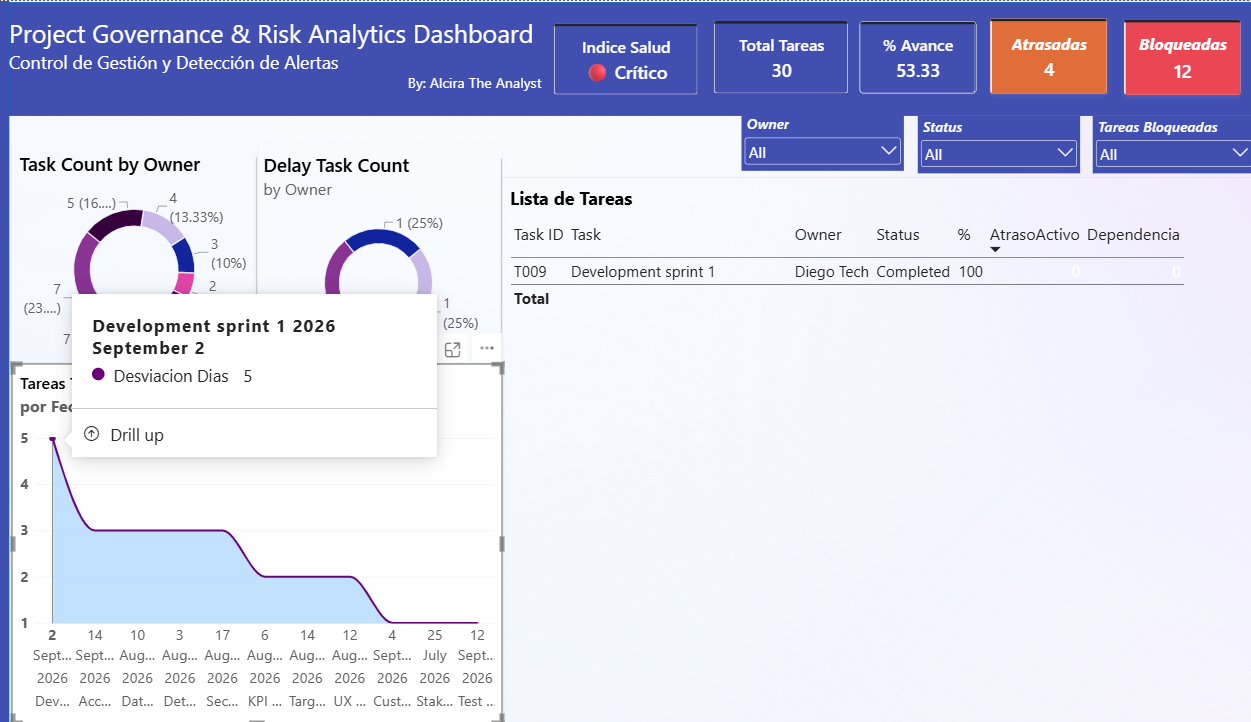

Layout of this report page (visuals, bound fields, positions):
{"tool":"powerbi","page":{"name":"Page 1","canvas":[1920,1080],"ordinal":0},"visuals":[{"type":"areaChart","title":"Tareas Terminadas con Desviacion Histórica ","fields":{"Category":["Audited_Tracker.Task","Audited_Tracker.Actual End.Variation.Date Hierarchy.Year","Audited_Tracker.Actual End.Variation.Date Hierarchy.Month","Audited_Tracker.Actual End.Variation.Date Hierarchy.Day"],"Y":["_Medidas.Desviacion Dias"]},"box":[63.4,541.1,734,540],"z":0},{"type":"shape","box":[0,2,1920.1,169.8],"z":1000},{"type":"shape","box":[0,0,60,1078],"z":2000},{"type":"cardVisual","fields":{"Data":["_Medidas.% Avance Promedio"]},"box":[1328,29.9,175.7,108.6],"z":3000},{"type":"cardVisual","fields":{"Data":["_Medidas.Tareas Atrasadas"]},"box":[1524.5,26.1,174,112],"z":4000},{"type":"donutChart","title":"Delay Task Count","fields":{"Category":["Audited_Tracker.Owner"],"Y":["_Medidas.Tareas Atrasadas"]},"box":[428,212,368.1,327.6],"z":5000},{"type":"tableEx","title":"Lista de Tareas","fields":{"Values":["Audited_Tracker.Task ID","Audited_Tracker.Task","Audited_Tracker.Owner","Audited_Tracker.Status","Audited_Tracker.Progress %","Audited_Tracker.Flag_Regla1_AtrasoActivo","Audited_Tracker.Flag_Regla3_BloqueoDependencia"]},"box":[794.9,263.1,1125.2,817.3],"z":6000},{"type":"cardVisual","fields":{"Data":["_Medidas.Total Tareas"]},"box":[1112,29.9,200,108],"z":7000},{"type":"textbox","box":[59.7,22.4,794.9,115.7],"z":8000},{"type":"cardVisual","fields":{"Data":["_Medidas.Indice Salud"]},"box":[874,33.9,214,106],"z":9000},{"type":"donutChart","title":"Task Count by Owner","fields":{"Category":["Audited_Tracker.Owner"],"Y":["CountNonNull(Audited_Tracker.Task)"]},"box":[63.4,210.9,366.3,327.6],"z":10000},{"type":"slicer","fields":{"Values":["Audited_Tracker.Owner"]},"box":[1153.2,167.9,242.6,85.8],"z":11000},{"type":"cardVisual","fields":{"Data":["_Medidas.Tareas Blocked"]},"box":[1725,28.3,174,112],"z":12000},{"type":"slicer","fields":{"Values":["Audited_Tracker.Status"]},"box":[1416.2,171.7,242.6,85.8],"z":13000},{"type":"shape","box":[406.8,233.2,44.8,307.9],"z":14000},{"type":"shape","box":[772.5,235.1,44.8,843.4],"z":15000},{"type":"slicer","fields":{"Values":["Audited_Tracker.Requiere_Atencion"]},"box":[1677.5,171.7,242.6,85.8],"z":16000}]}

Visuals, with their boxes in screenshot pixels (x1, y1, x2, y2), scaled from the page's 1920x1080 canvas onto the 1251x722 screenshot:
"Tareas Terminadas con Desviacion Histórica " areaChart: locate(41, 362, 520, 721)
shape: locate(0, 1, 1250, 115)
shape: locate(0, 0, 39, 721)
cardVisual - _Medidas.% Avance Promedio: locate(865, 20, 980, 93)
cardVisual - _Medidas.Tareas Atrasadas: locate(993, 17, 1107, 92)
"Delay Task Count" donutChart: locate(279, 142, 519, 361)
"Lista de Tareas" tableEx: locate(518, 176, 1250, 721)
cardVisual - _Medidas.Total Tareas: locate(725, 20, 855, 92)
textbox: locate(39, 15, 557, 92)
cardVisual - _Medidas.Indice Salud: locate(569, 23, 709, 94)
"Task Count by Owner" donutChart: locate(41, 141, 280, 360)
slicer - Audited_Tracker.Owner: locate(751, 112, 909, 170)
cardVisual - _Medidas.Tareas Blocked: locate(1124, 19, 1237, 94)
slicer - Audited_Tracker.Status: locate(923, 115, 1081, 172)
shape: locate(265, 156, 294, 362)
shape: locate(503, 157, 533, 721)
slicer - Audited_Tracker.Requiere_Atencion: locate(1093, 115, 1250, 172)
